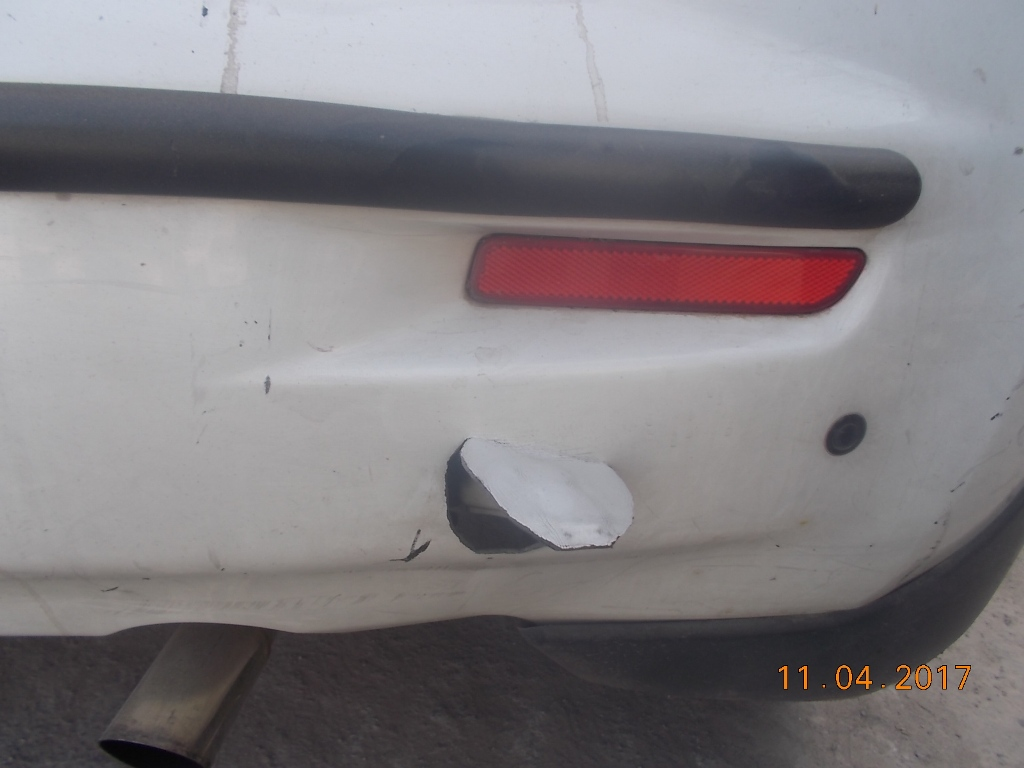Dislocation: (350, 340, 700, 592)
